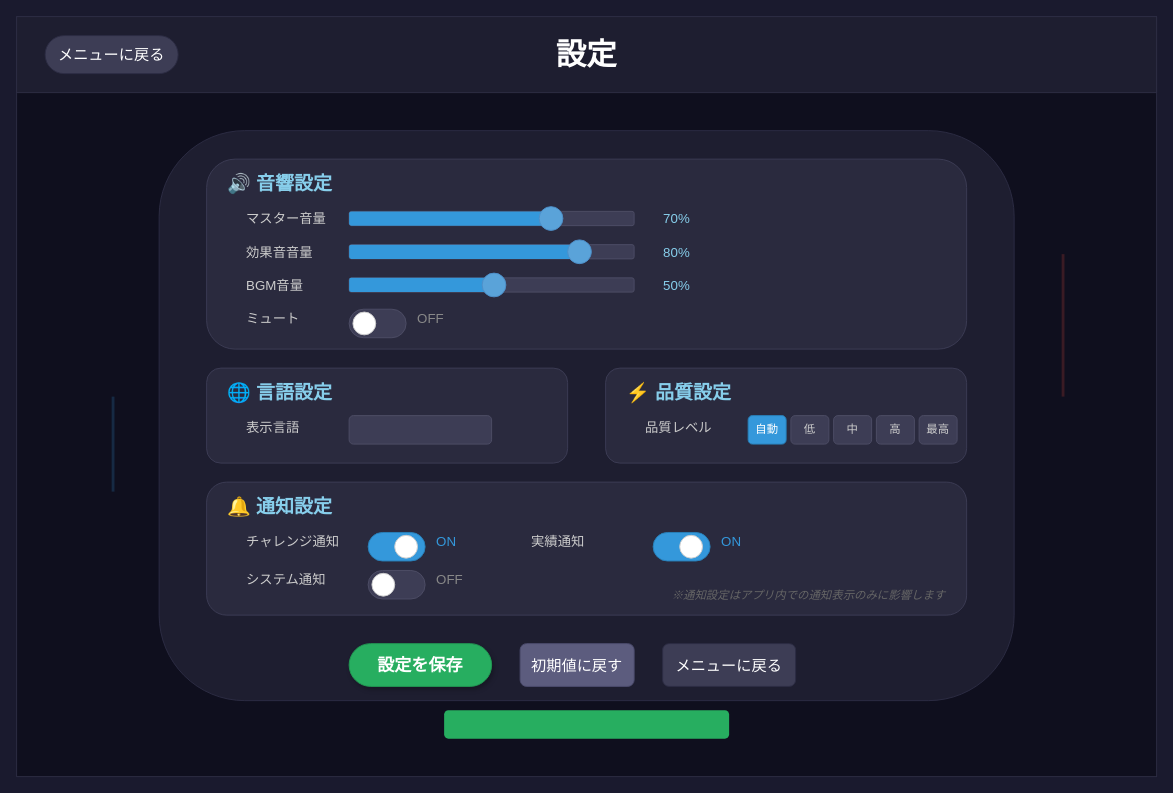
Image size: 1173x793. Some labels were removed from this diagram. The shapes that lost their labels are listed below. From the top down, each one's centre as x and y in pixels, then its label:
At pixel 420 429: "日本語 ▼".
At pixel 586 724: "✓ 設定を保存しました".
